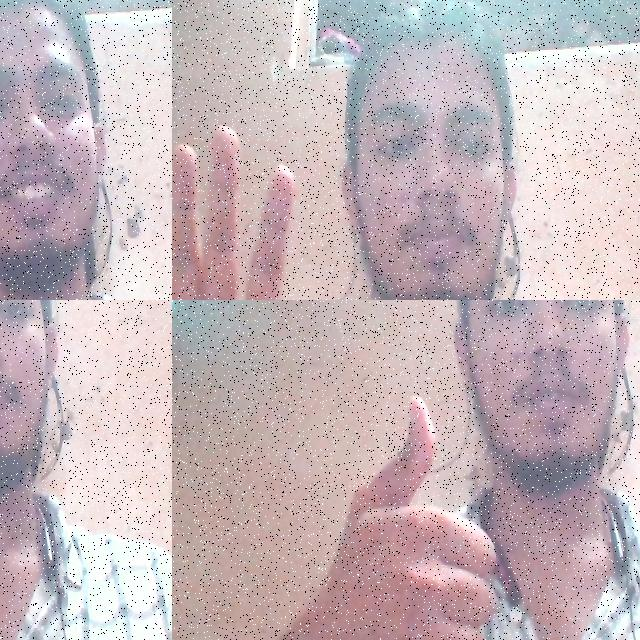Hello: (172, 115, 352, 300)
Thank You: (0, 306, 55, 640)
Yes: (265, 384, 513, 640)
